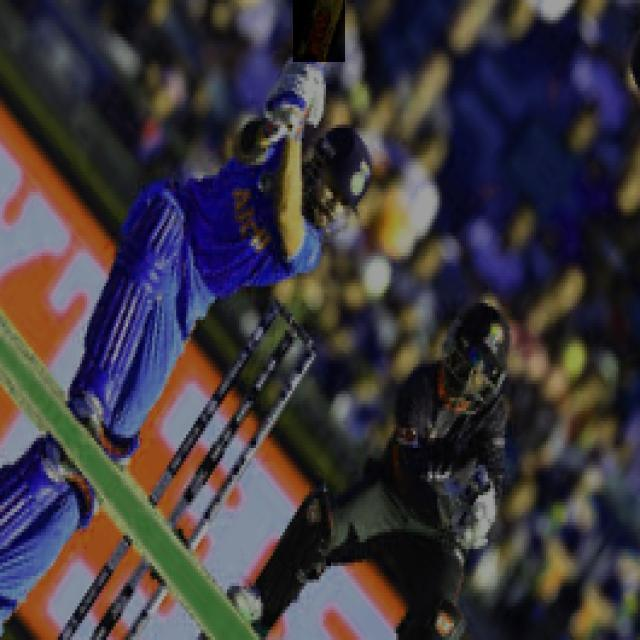bat: (295, 0, 345, 62)
